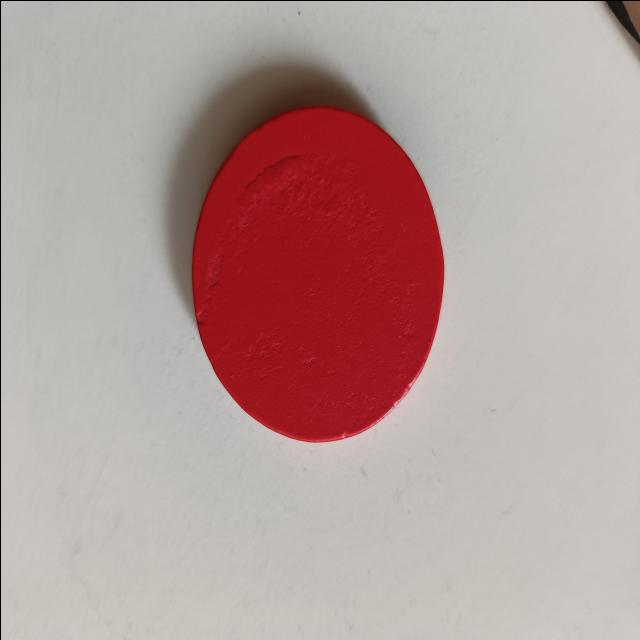chip: (198, 108, 438, 442)
